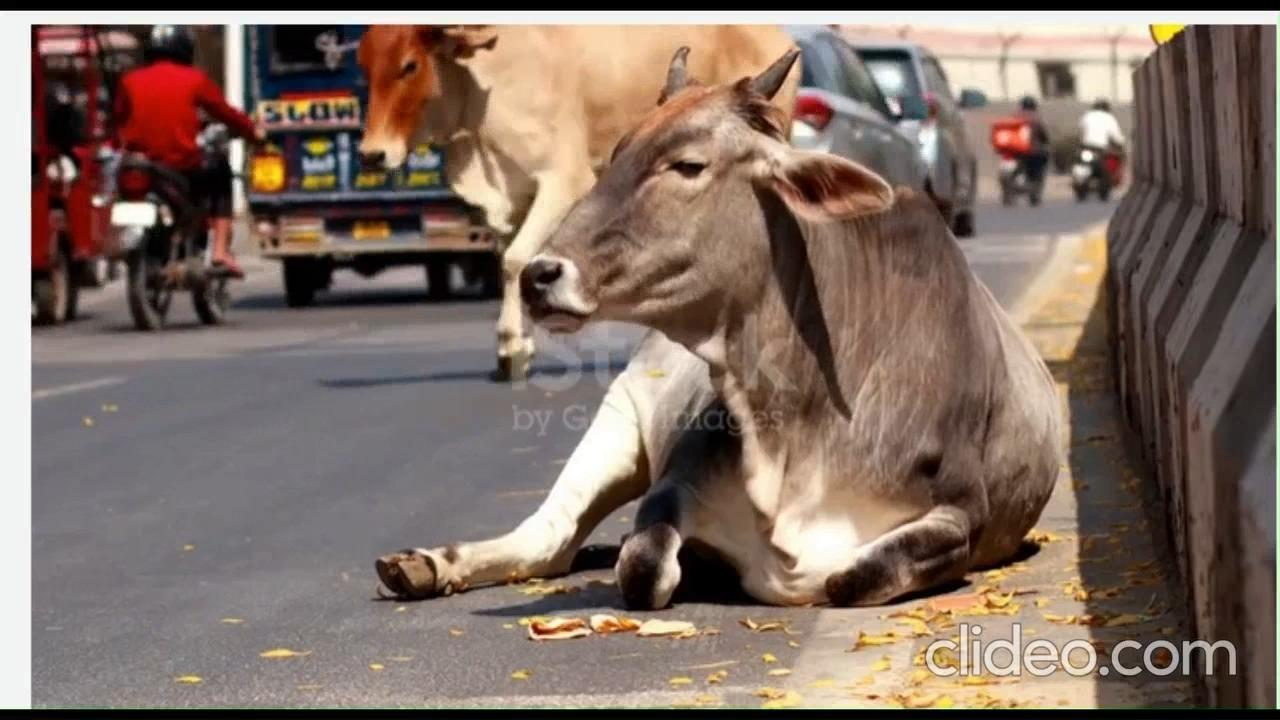Cow: (376, 40, 1064, 591), (346, 32, 802, 388)
